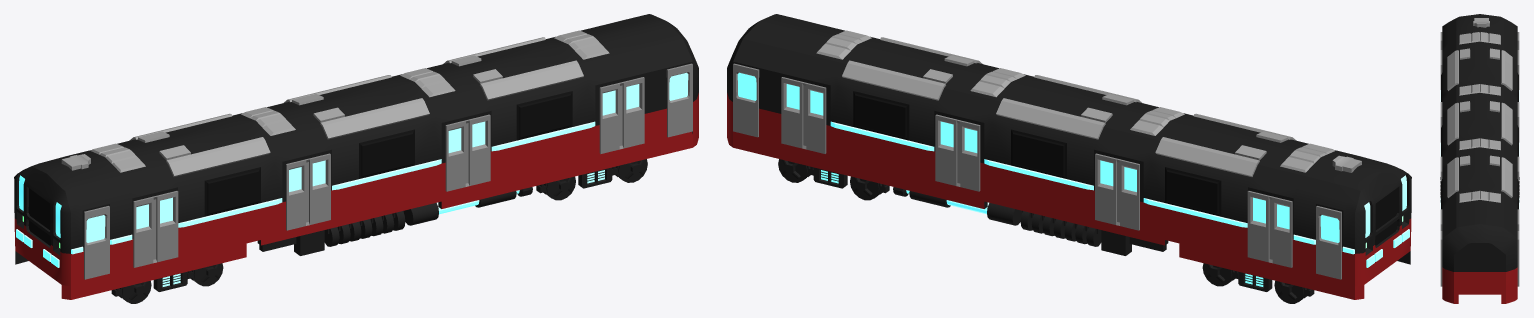
Rendered from train.fbx.
3 views of the same model, side by side, from view 1: azimuth 30°, elevation 25°; view 2: azimuth 150°, elevation 25°; view 3: azimuth 270°, elevation 25° (orthographic). The views are drawn at different scales.
Parts seen in each view (by area): view 1: Train Main Body; view 2: Train Main Body; view 3: Train Main Body.
Part boxes in pixels (left/top/right/bottom): Train Main Body: left=14, top=14, right=698, bottom=303; Train Main Body: left=727, top=14, right=1411, bottom=303; Train Main Body: left=1440, top=14, right=1519, bottom=303.
Bounding box in the file's own units: 362 × 72.96 × 55.14.
